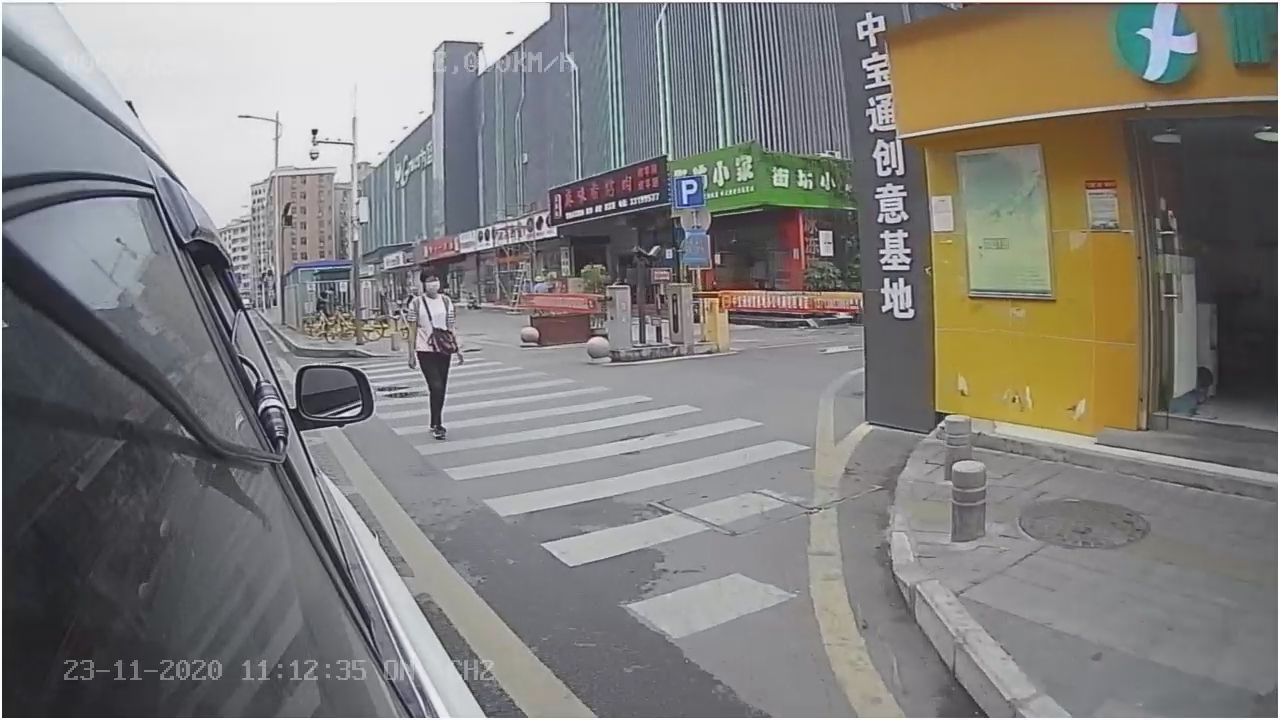person: (396, 267, 468, 446)
